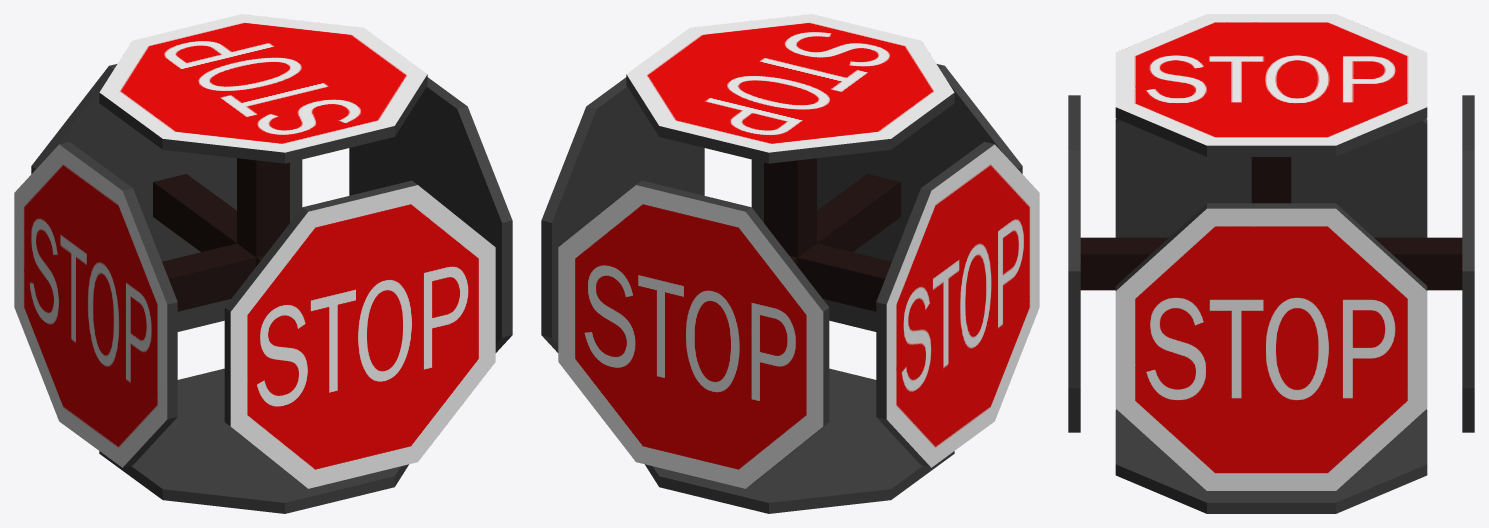
File: Blokcer2.fbx
3 renders of one model, left to right at view 1: azimuth 30°, elevation 25°; view 2: azimuth 150°, elevation 25°; view 3: azimuth 270°, elevation 25°, orthographic.
Visible parts, largest first — view 1: Stop Sign Joined; view 2: Stop Sign Joined; view 3: Stop Sign Joined.
Part boxes in pixels (left/top/right/bottom): Stop Sign Joined: left=14, top=14, right=512, bottom=513; Stop Sign Joined: left=541, top=14, right=1039, bottom=513; Stop Sign Joined: left=1068, top=14, right=1474, bottom=513.
Bounding box in the file's own units: 1000 × 1000 × 1000.
